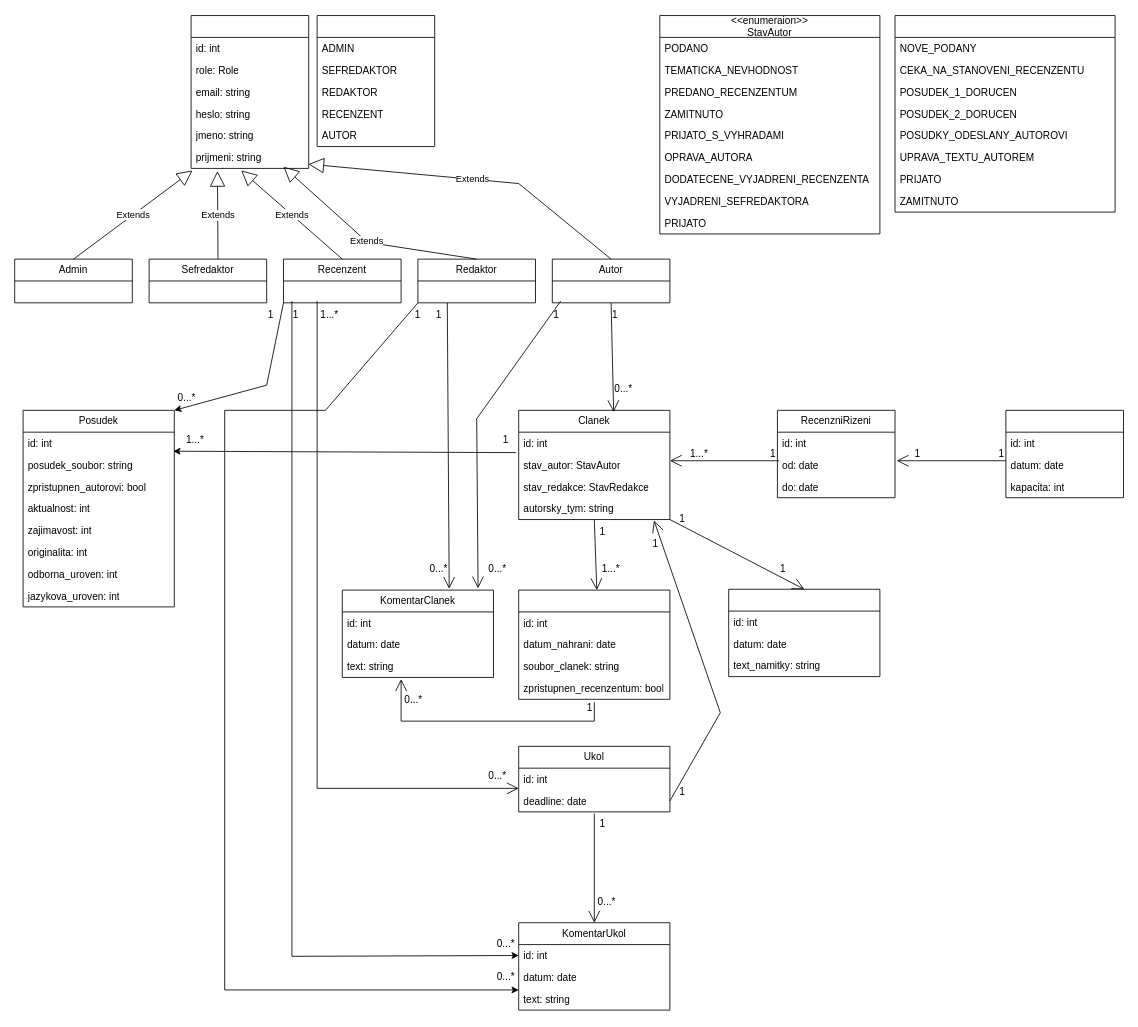
Image size: 1138x1027. Some labels were removed from this diagram. The shapes that lost their labels are listed below. From the top down, each one's box as (x1, y1, x2, y2) in pixels, then its label:
(190, 15, 309, 168): Ucet
(316, 15, 435, 147): <<enumeraion>> Role
(894, 15, 1115, 212): <<enumeraion>> StavRedakce
(1005, 410, 1124, 498): Tisk
(518, 589, 670, 699): VerzeClanku
(728, 588, 880, 677): Namitka
